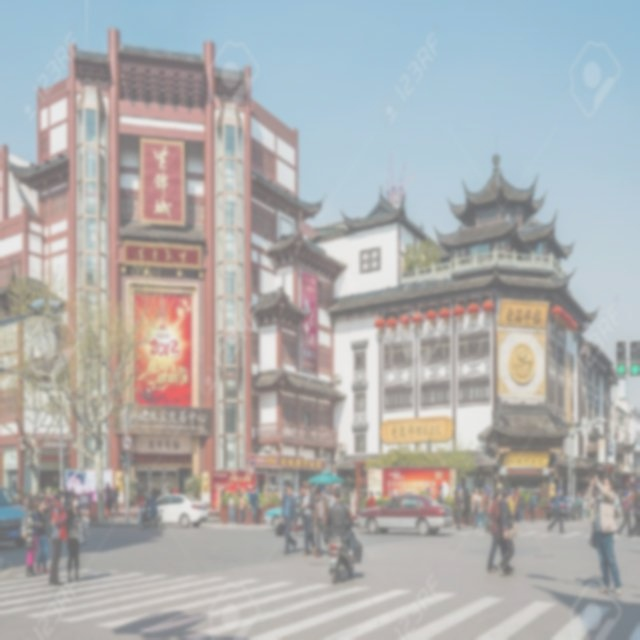pessoa: (586, 473, 623, 596), (43, 488, 68, 588), (486, 489, 515, 574), (326, 487, 358, 562), (64, 492, 84, 584), (496, 487, 516, 577), (274, 482, 297, 554), (24, 493, 43, 578), (34, 496, 52, 574), (468, 484, 519, 511), (298, 482, 316, 556), (314, 487, 331, 558), (546, 486, 566, 534), (616, 489, 633, 536), (628, 484, 640, 538), (66, 468, 86, 494), (454, 484, 464, 530), (306, 482, 334, 498), (249, 486, 260, 526), (470, 486, 480, 530), (14, 486, 34, 508), (146, 490, 160, 520), (384, 498, 400, 524), (461, 486, 471, 526), (528, 488, 538, 524), (348, 485, 368, 503), (228, 492, 238, 526), (104, 489, 114, 522), (516, 492, 526, 524), (112, 484, 121, 518), (574, 490, 584, 520), (43, 485, 58, 505), (617, 488, 637, 503), (476, 490, 483, 530), (103, 482, 111, 516), (238, 492, 246, 526), (583, 488, 591, 522), (349, 489, 357, 522), (481, 486, 487, 530), (296, 491, 304, 524), (564, 490, 572, 522), (363, 489, 376, 508), (613, 489, 620, 519), (509, 494, 515, 524), (64, 484, 70, 512), (220, 484, 226, 510), (46, 484, 53, 506), (436, 486, 444, 505), (144, 485, 150, 510), (606, 437, 614, 455), (138, 488, 144, 511), (453, 488, 460, 505), (628, 504, 634, 520), (38, 488, 44, 500), (172, 484, 179, 494), (426, 486, 432, 497), (592, 488, 600, 496), (236, 488, 242, 498), (245, 486, 250, 497), (164, 490, 166, 496)
